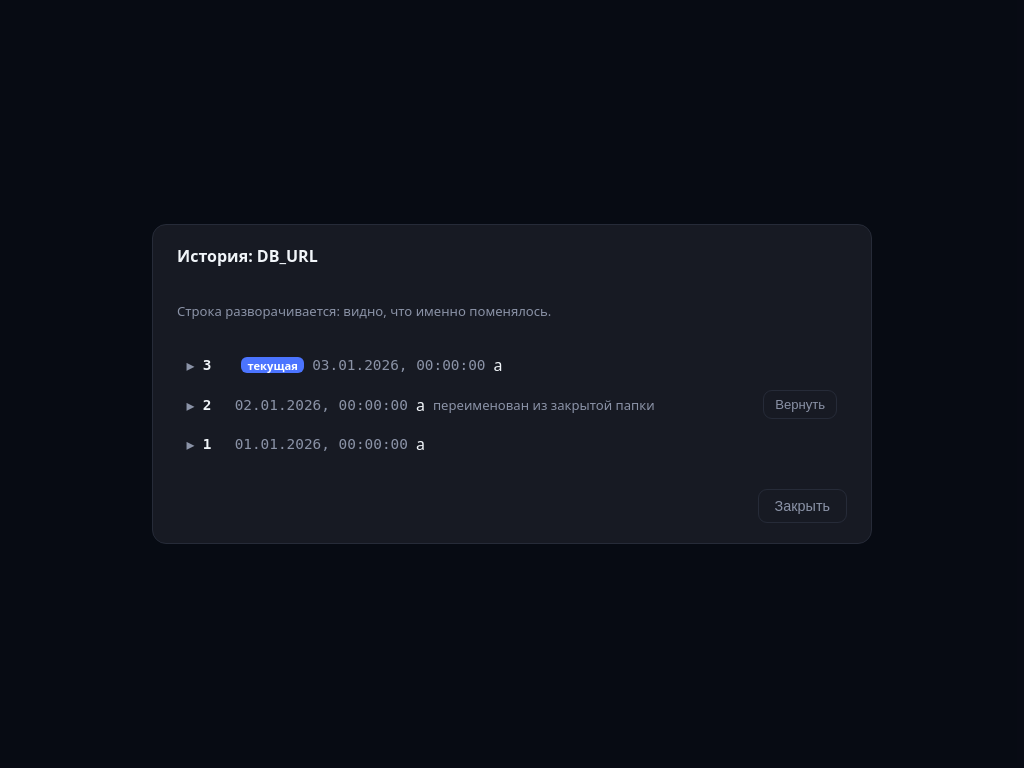
Test: история ключа и права › версия из закрытой папки не раскрывается и не возвращается
The width and height of the screenshot is (1024, 768).
// v2 раскрывается: сравнивается с пустым, закрытую v1 не запрашиваем.
Click the button with class "hist-main" that starts with "переименован из закрытой папки" at (421, 404), box [187,394,655,416]
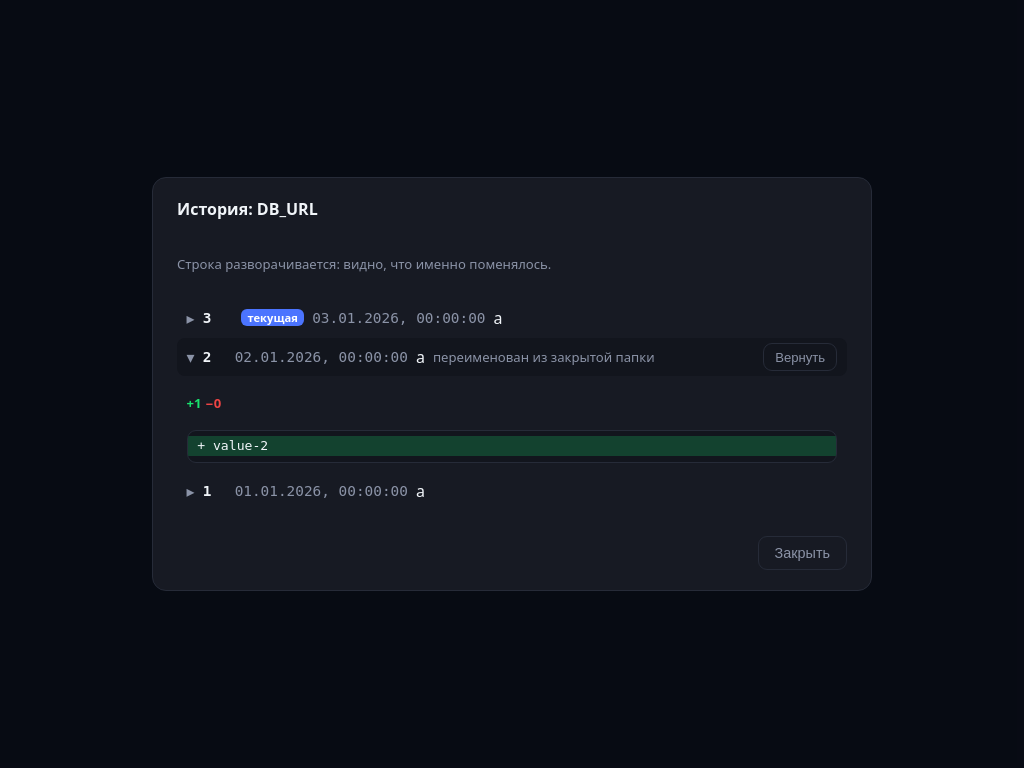
// v1 - честная надпись, без запроса и без ошибки.
Click the button with class "hist-main" showing "▸ 1 01.01.2026, 00:00:00 a" at (306, 491), box [187,480,425,502]
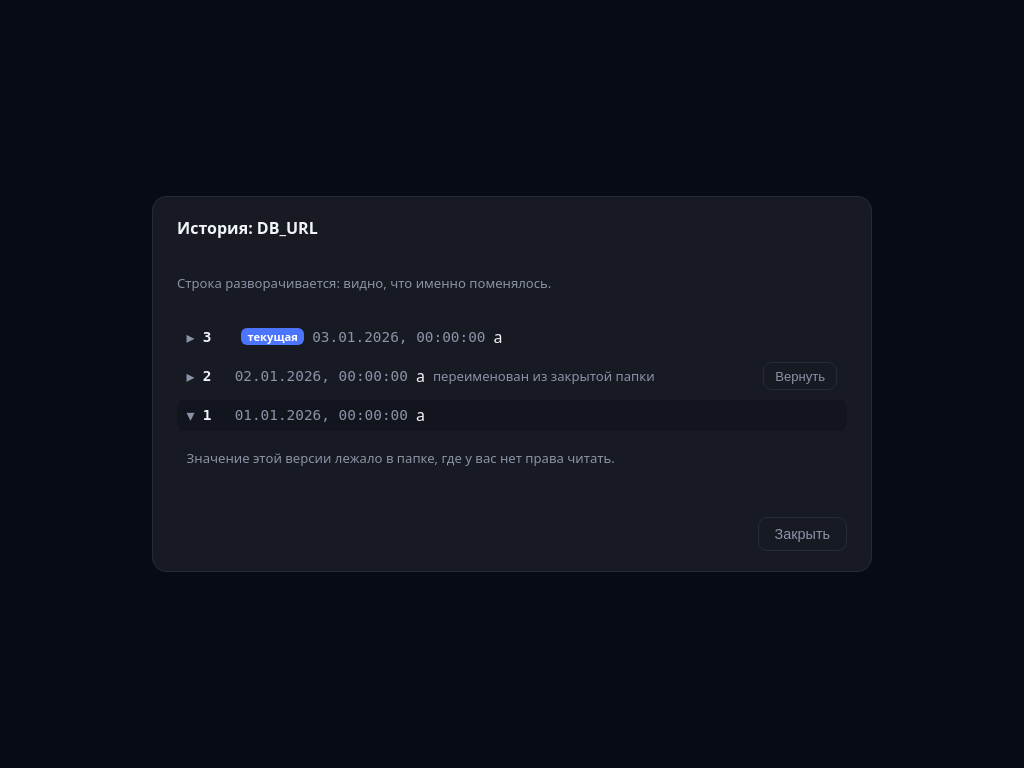
Result: the text "Значение этой версии лежало в папке, где у вас нет права читать." is shown at [187,449,615,467]
